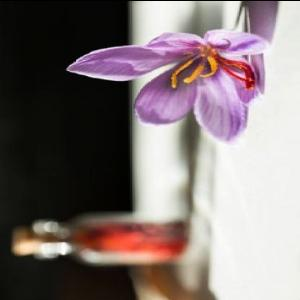Saffron: (67, 22, 272, 126)
